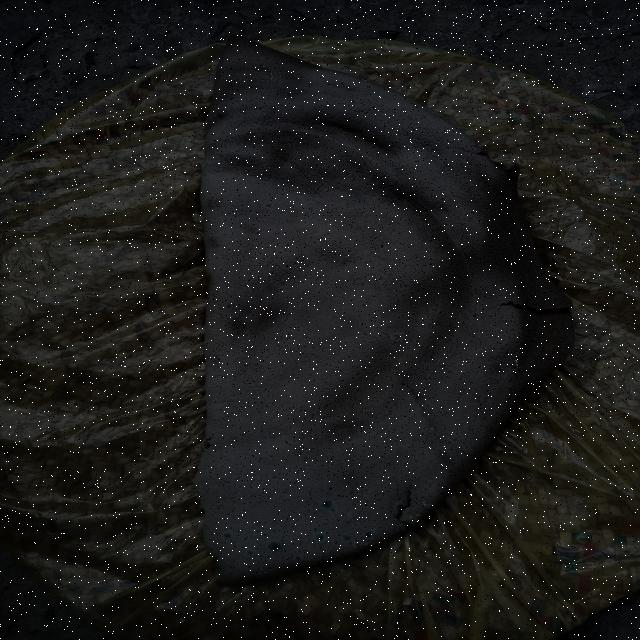injera_mold: (351, 540, 371, 554), (320, 553, 342, 563), (408, 512, 422, 527), (266, 541, 282, 551), (389, 332, 404, 341), (394, 503, 407, 513), (322, 500, 334, 508), (422, 500, 434, 508), (364, 530, 374, 539), (222, 532, 232, 540), (315, 534, 325, 541), (342, 534, 352, 541), (263, 203, 273, 210), (246, 549, 254, 557), (514, 360, 520, 370), (294, 556, 302, 563), (362, 78, 371, 82), (254, 529, 262, 533), (300, 563, 308, 567), (330, 508, 336, 512), (394, 524, 400, 528), (270, 76, 274, 80), (259, 572, 262, 576), (260, 568, 263, 571), (501, 367, 504, 370), (508, 353, 511, 356), (264, 572, 268, 574), (390, 527, 393, 529), (395, 530, 398, 532), (400, 524, 403, 526), (344, 550, 347, 552), (497, 358, 500, 360), (368, 83, 371, 85), (270, 73, 273, 75), (262, 80, 264, 82), (267, 80, 269, 82), (516, 352, 518, 353), (280, 76, 282, 77)
